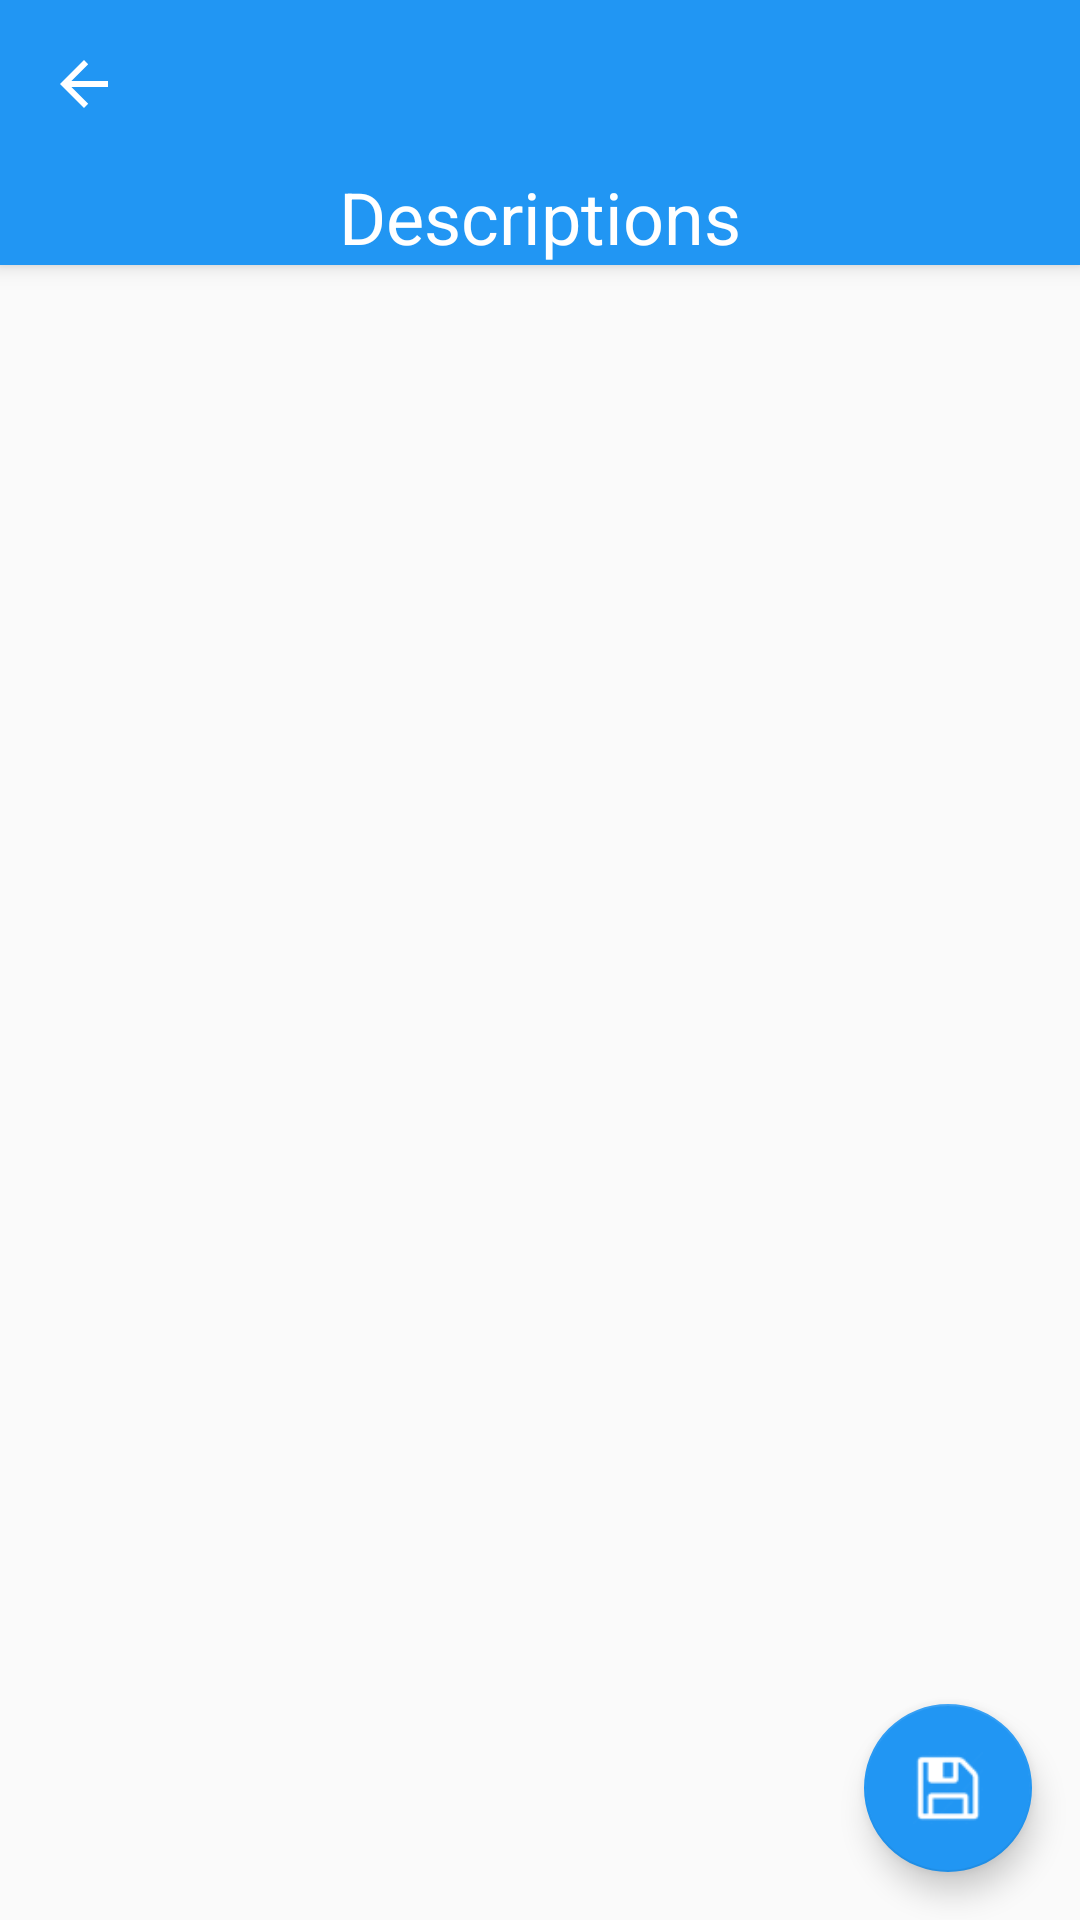

Where to tap for icons on this 1080w x 1920h app screen, as (x,y):
save: (948,1788)
